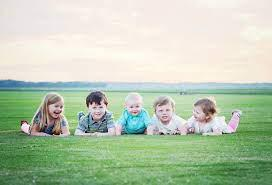child: (15, 90, 74, 137), (185, 97, 242, 136), (73, 89, 116, 138), (113, 91, 153, 138), (147, 97, 189, 138)
